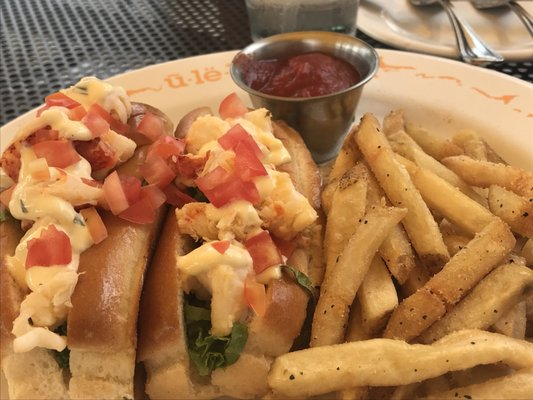pizza: (244, 0, 362, 42)
sushi: (229, 30, 380, 164)
